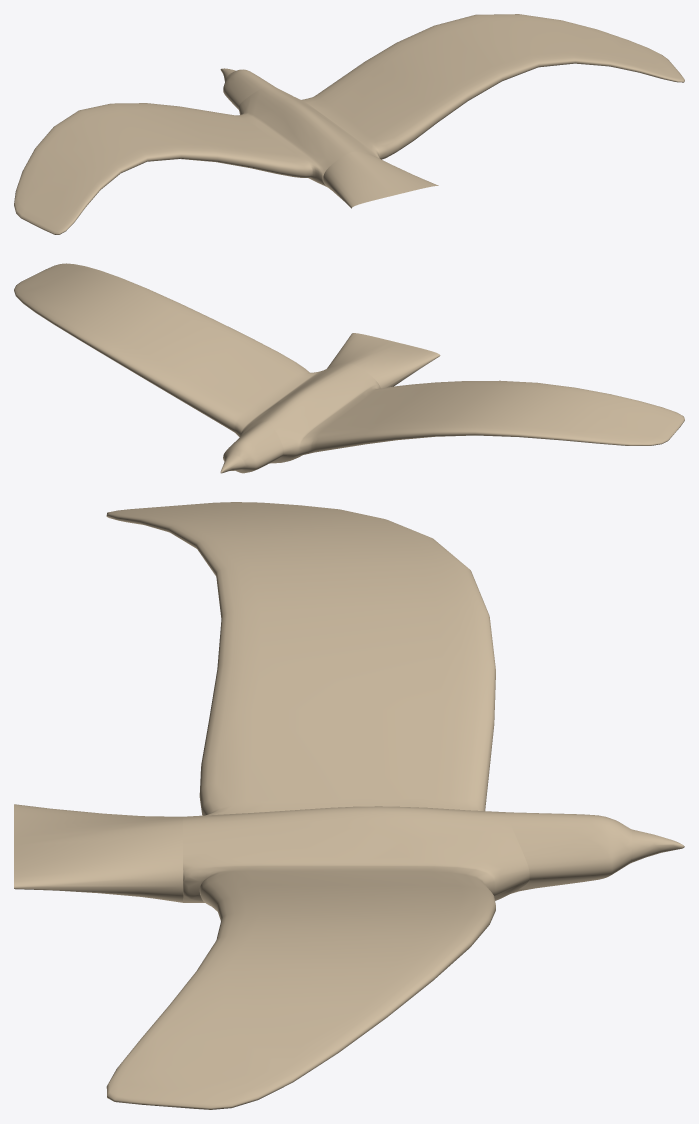
File: vermilion-bird.glb
3 renders of one model, top to bottom at view 1: azimuth 30°, elevation 25°; view 2: azimuth 150°, elevation 25°; view 3: azimuth 270°, elevation 25°, orthographic. The views are drawn at different scales.
Visible parts, largest first — view 1: Cylinder001; view 2: Cylinder001; view 3: Cylinder001.
Part boxes in pixels (x1,y1,x2,y2): Cylinder001: (14,14,684,234); Cylinder001: (14,263,684,473); Cylinder001: (14,502,684,1109).
Bounding box in the file's own units: 260 × 32.13 × 122.
